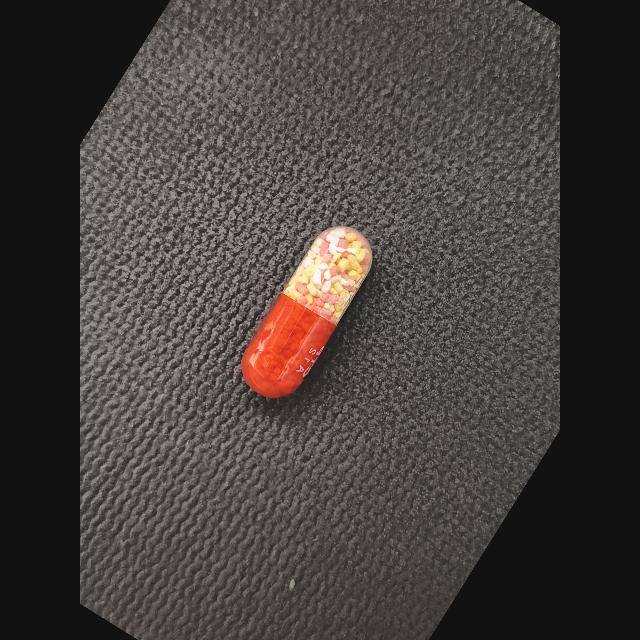Intact Capsule: (241, 227, 373, 399)
